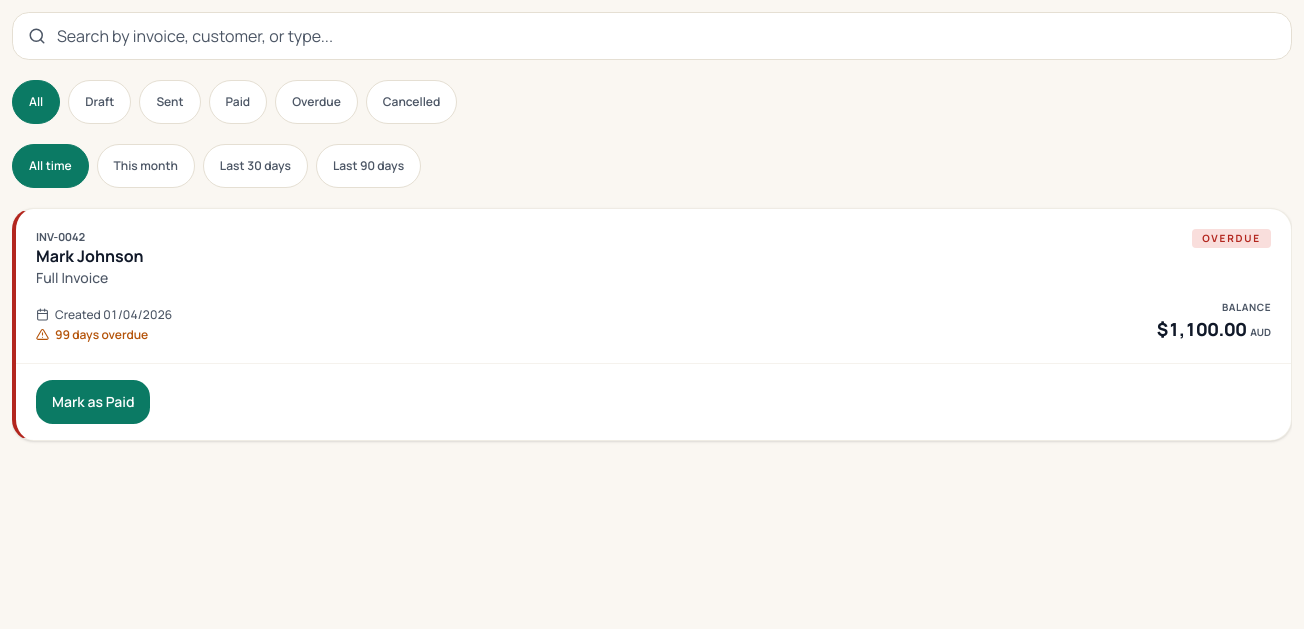
Test: invoice action error recovery › shows thrown table payment errors and clears the table pending state
Click the button "Mark as Paid".
click(93, 402)  # box [36,380,150,424]
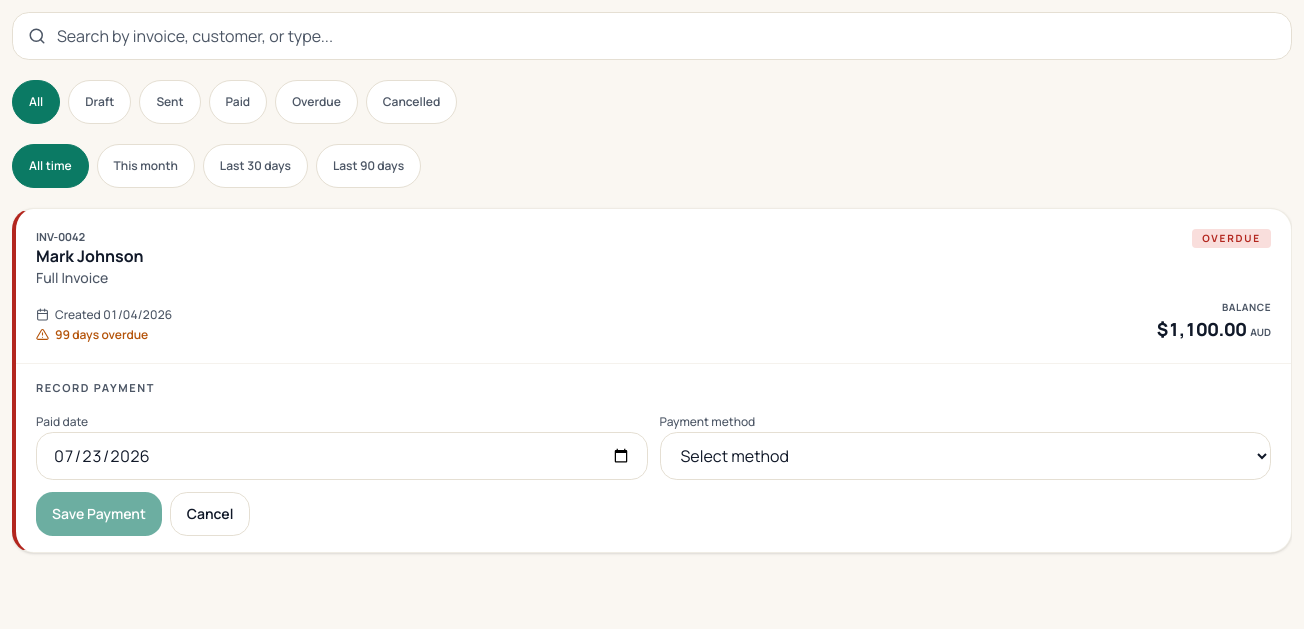
Select "Card" in the dropdown labelled "Payment method" at (965, 456), box [660,432,1271,480]
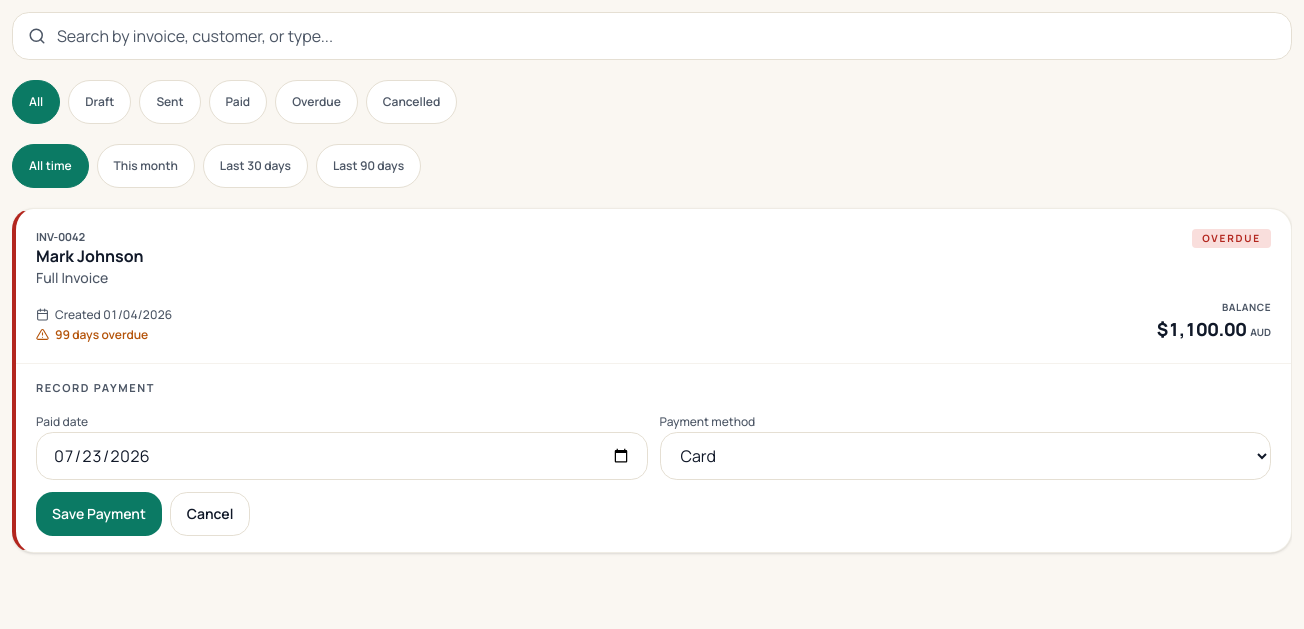
Click the button "Save Payment".
click(99, 514)  # box [36,492,162,536]
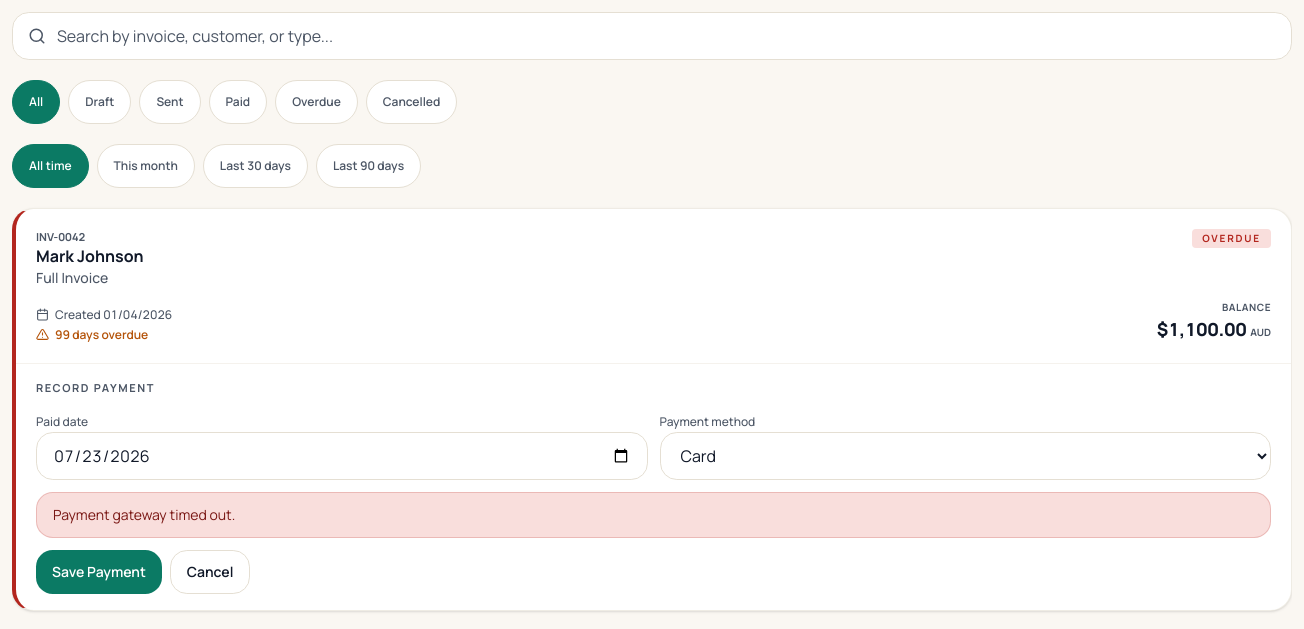
Expected: the button "Save Payment" is enabled, [36,550,162,594]
Expected: the text "Payment gateway timed out." is shown, [36,492,1271,538]
